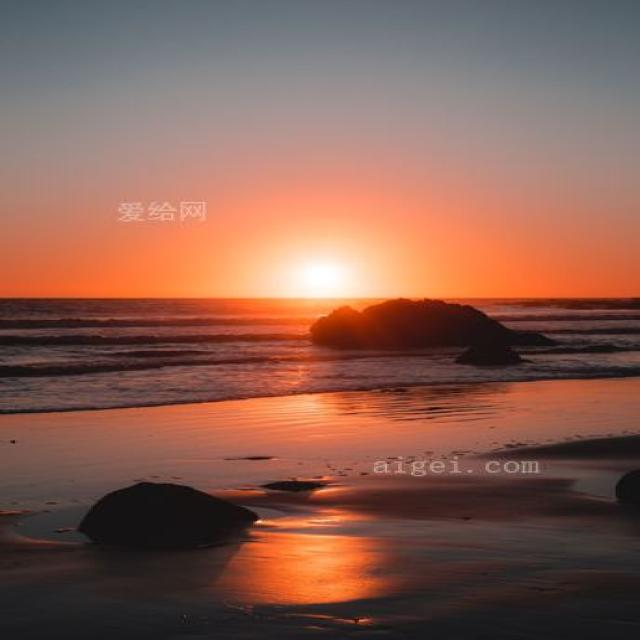reef: (261, 295, 573, 374)
